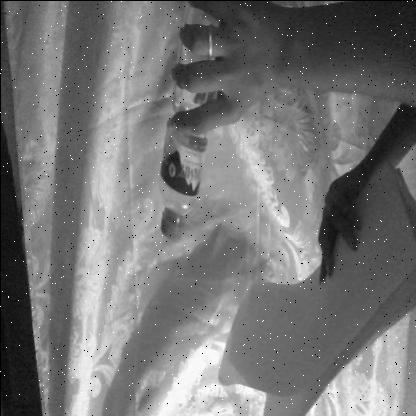Plastic Bottle: (144, 0, 232, 289)
